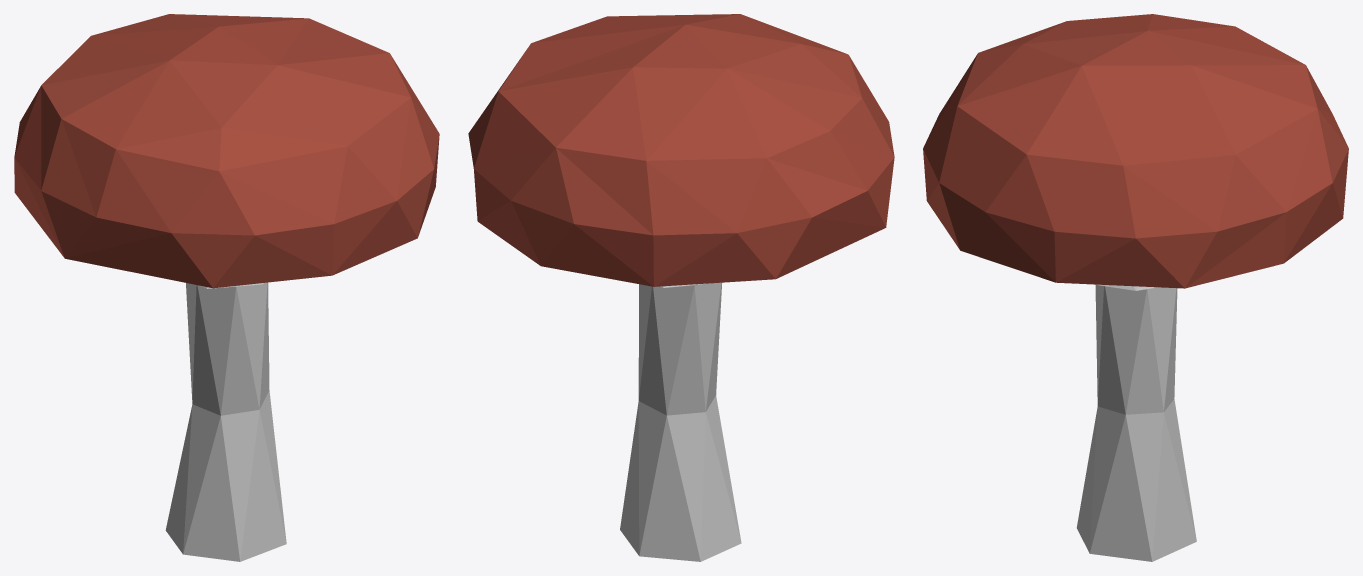
File: Mushroom_01.fbx
The picture shows the model from 3 angles, left to right: view 1: azimuth 30°, elevation 25°; view 2: azimuth 150°, elevation 25°; view 3: azimuth 270°, elevation 25°; orthographic projection.
Parts seen in each view (by area): view 1: Mushroom_01_LOD0; view 2: Mushroom_01_LOD0; view 3: Mushroom_01_LOD0.
Boxes of the visible parts, x1,y1,x2,y2 form: Mushroom_01_LOD0: [14, 14, 439, 561]; Mushroom_01_LOD0: [468, 14, 894, 561]; Mushroom_01_LOD0: [923, 14, 1348, 561].
Size of what is drawn, in the model's own units: 15.74 by 19.63 by 15.74.
